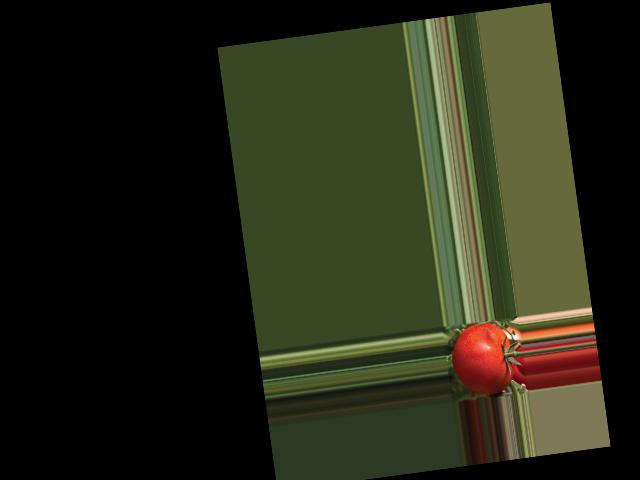tomato: (448, 319, 518, 398)
